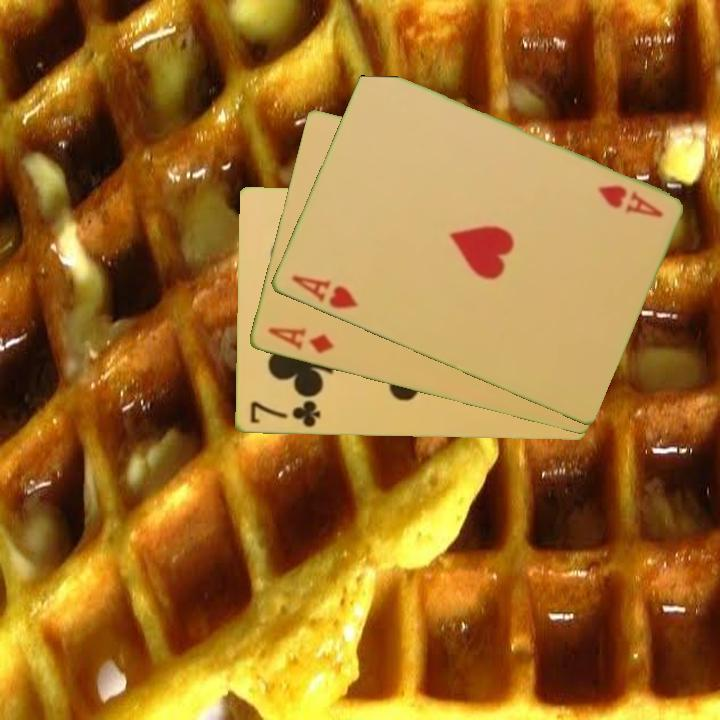7c: (246, 397, 322, 431)
Ad: (264, 324, 337, 357)
Ah: (287, 272, 361, 313), (594, 181, 666, 221)
